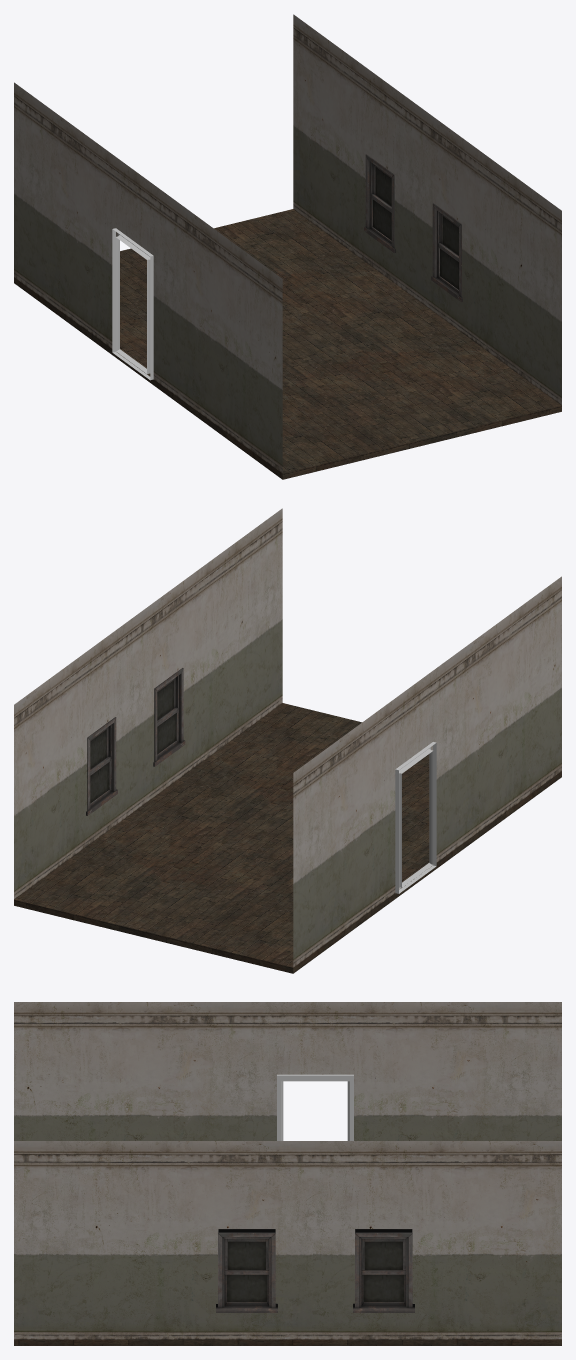
The model's file is hallway_finished_10m_door_windows_left.fbx.
3 views of the same model, one above another, from view 1: azimuth 30°, elevation 25°; view 2: azimuth 150°, elevation 25°; view 3: azimuth 270°, elevation 25° (orthographic).
Visible parts, largest first — view 1: hallway_finished_10m_door_windows_left; view 2: hallway_finished_10m_door_windows_left; view 3: hallway_finished_10m_door_windows_left.
Boxes of the visible parts, x1,y1,x2,y2 form: hallway_finished_10m_door_windows_left: [14, 14, 561, 479]; hallway_finished_10m_door_windows_left: [14, 508, 561, 973]; hallway_finished_10m_door_windows_left: [14, 1002, 561, 1345].
Size of the model in its own units: 630 by 412 by 1000.
